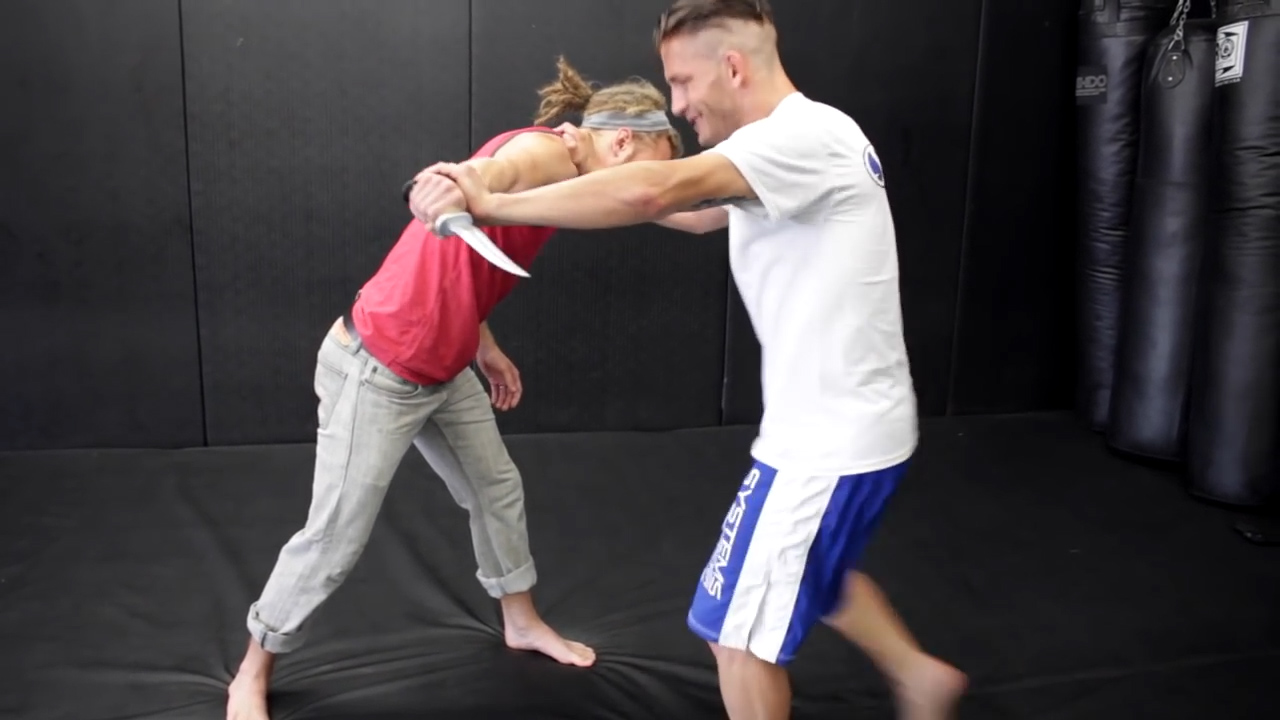knife: (396, 171, 540, 285)
